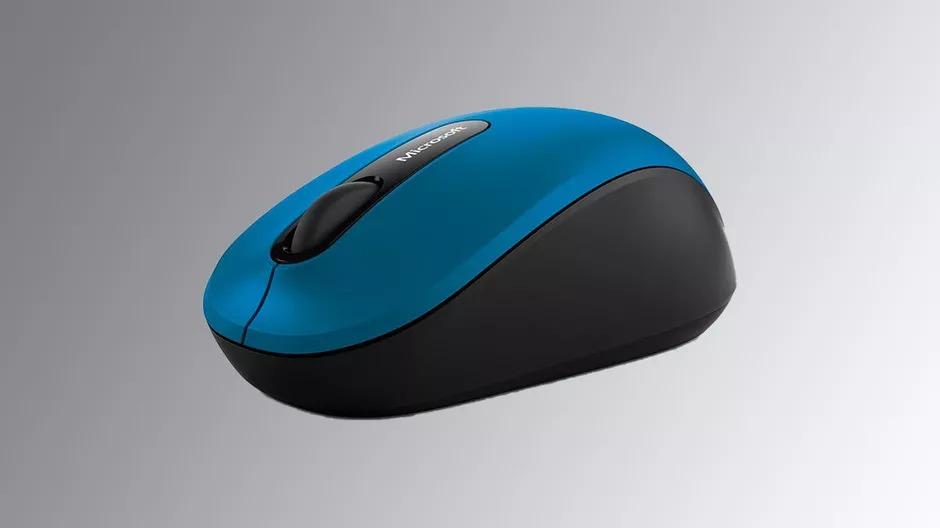mouse: (187, 82, 751, 443)
